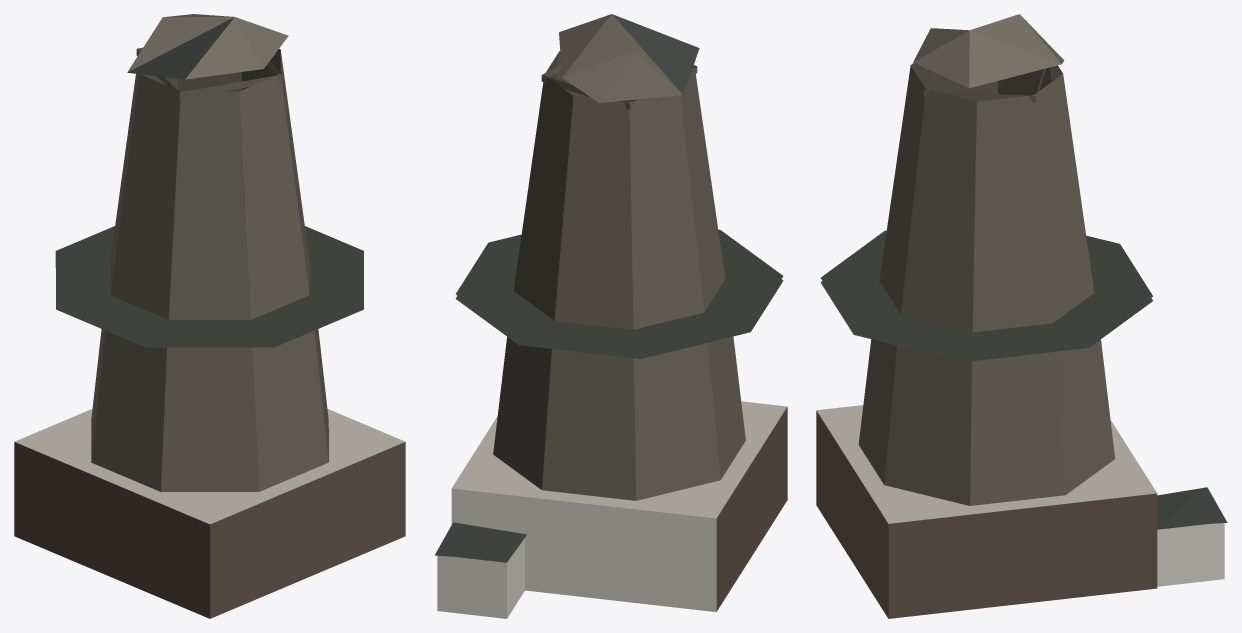
File: de-bloem.lod2.glb
The picture shows the model from 3 angles, left to right: view 1: azimuth 30°, elevation 25°; view 2: azimuth 150°, elevation 25°; view 3: azimuth 270°, elevation 25°; orthographic projection.
Parts seen in each view (by area): view 1: lod2; view 2: lod2; view 3: lod2.
Part boxes in pixels (left/top/right/bottom): lod2: left=14, top=14, right=405, bottom=618; lod2: left=434, top=14, right=787, bottom=618; lod2: left=816, top=14, right=1227, bottom=618.
Bounding box in the file's own units: 14.63 × 24.84 × 17.64.
